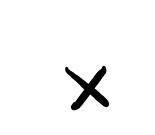mult: (64, 65, 109, 109)
